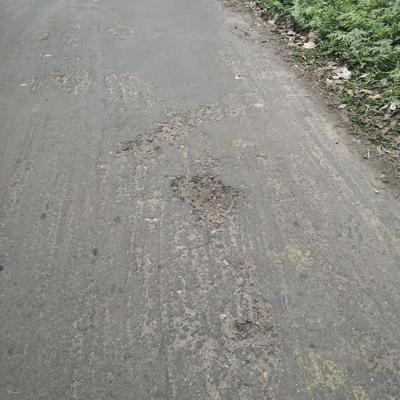Pothole: (165, 166, 246, 234), (123, 107, 212, 156), (225, 306, 277, 364)
